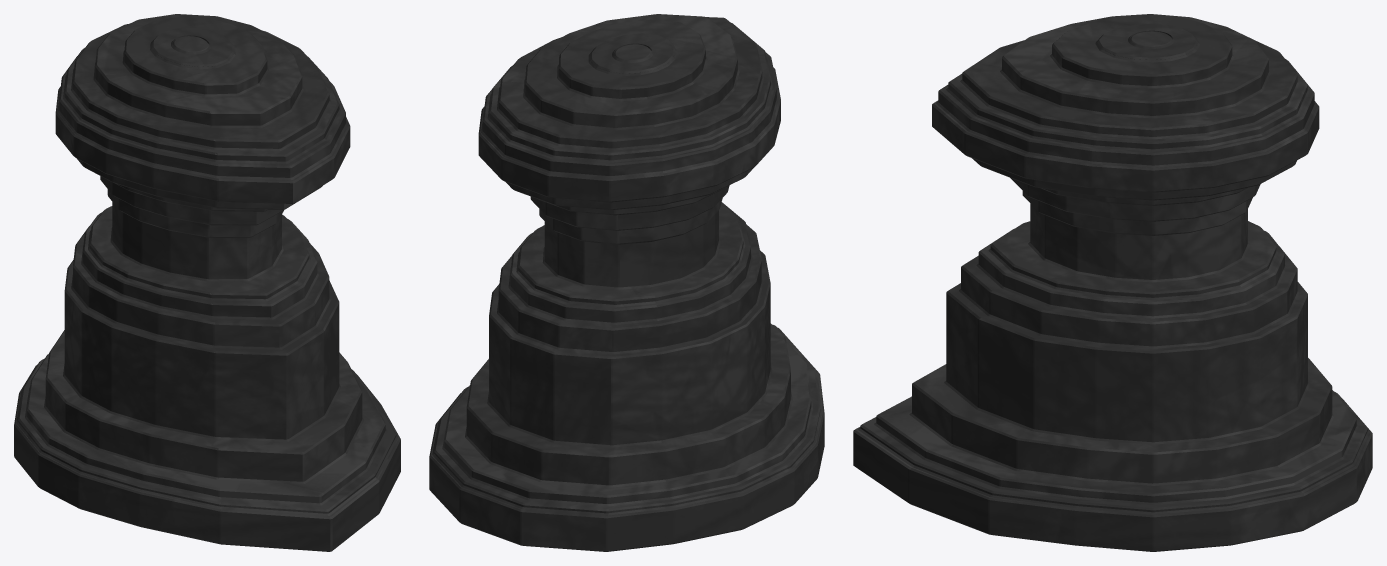
File: Tutorial_canyonSpire.fbx
The picture shows the model from 3 angles, left to right: view 1: azimuth 30°, elevation 25°; view 2: azimuth 150°, elevation 25°; view 3: azimuth 270°, elevation 25°; orthographic projection. The views are drawn at different scales.
Visible parts, largest first — view 1: canyonSpire; view 2: canyonSpire; view 3: canyonSpire.
Part boxes in pixels (<box>): canyonSpire: <box>14,14,400,551</box>; canyonSpire: <box>429,14,824,551</box>; canyonSpire: <box>853,14,1372,551</box>.
Bounding box in the file's own units: 47.98 × 57.81 × 63.56.
1 material, 1 textured.
